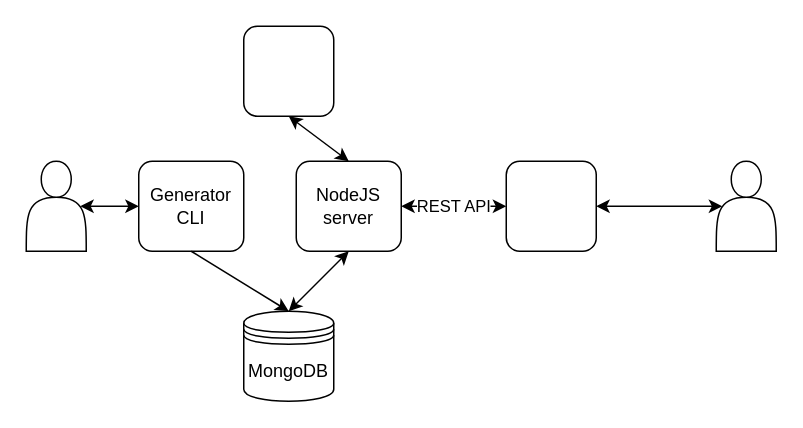
The diagram is 803 pixels wide and 428 high, and some of its shapes have lost their labels. The centre of each missing label's shape, as x and y in pixels:
Google Auth, Facebook Auth: [288,70]
React frontend: [550,205]
